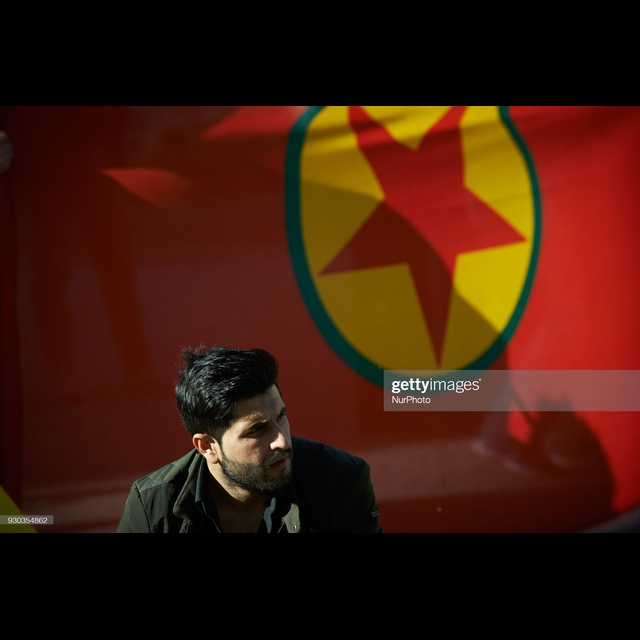PKK: (262, 101, 575, 359)
